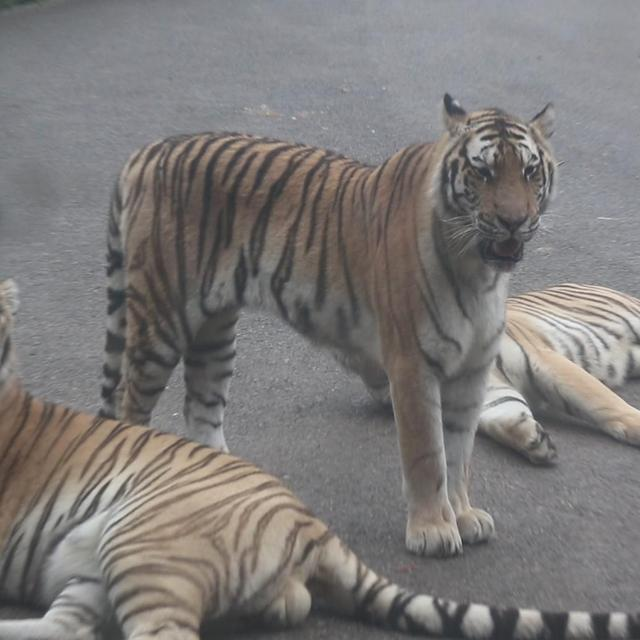tiger: (0, 276, 638, 640), (88, 89, 564, 560), (463, 284, 640, 468)
